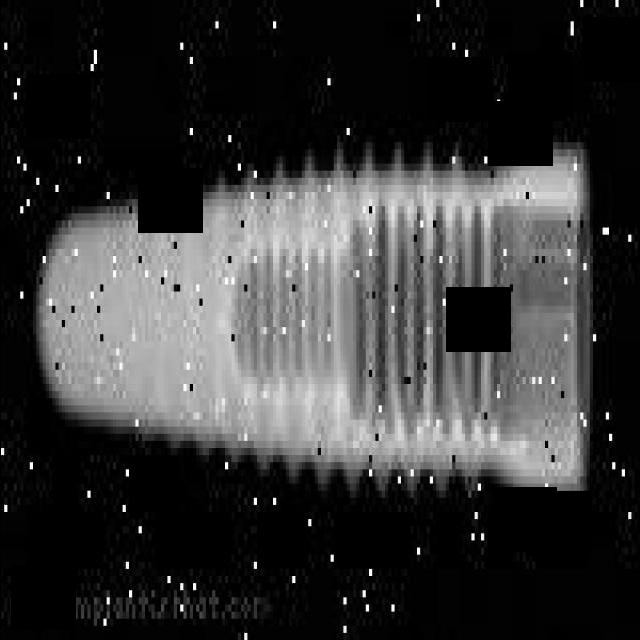Root canal obturation: (6, 118, 640, 590)
